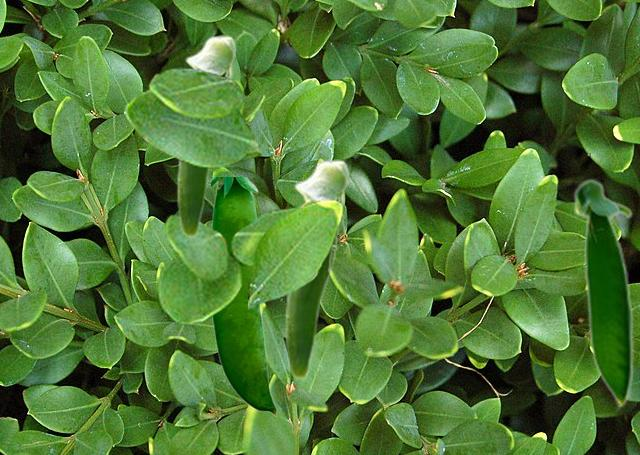pea: (211, 177, 276, 416), (284, 159, 349, 379), (572, 177, 633, 411), (176, 35, 236, 237)
